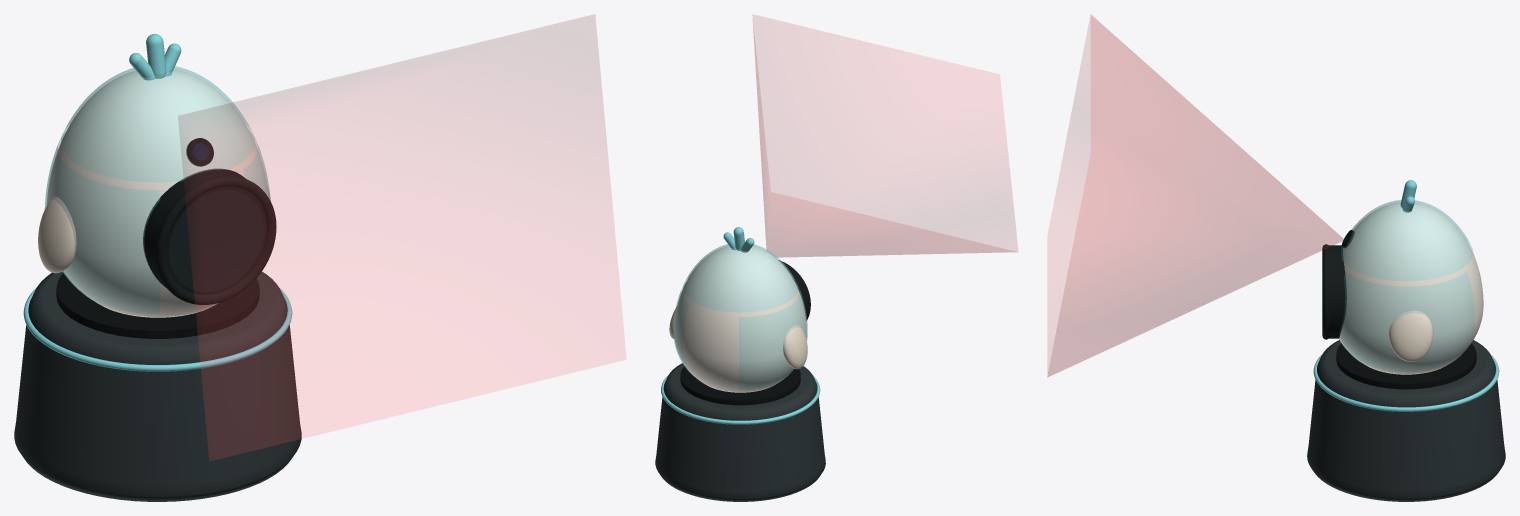
Rendered from haro-body.glb.
3 views of the same model, side by side, from view 1: azimuth 30°, elevation 25°; view 2: azimuth 150°, elevation 25°; view 3: azimuth 270°, elevation 25° (orthographic). The views are drawn at different scales.
Parts seen in each view (by area): view 1: camera_view_keep_clear, base, shell, touch_pad_crown, touch_pad_right, screen, base_top, screen_rim, screen_bezel, base_ring, wing_right, leaf_1; view 2: camera_view_keep_clear, base, shell, touch_pad_crown, touch_pad_right, base_top, base_ring, wing_right, touch_pad_left; view 3: camera_view_keep_clear, base, shell, touch_pad_left, touch_pad_crown, base_top, wing_left, screen_bezel, base_ring, screen_rim.
Part boxes in pixels (x1,y1,x2,y2): camera_view_keep_clear: (178,15,625,460); base: (14,271,301,501); shell: (46,69,268,317); touch_pad_crown: (61,66,254,182); touch_pad_right: (44,132,159,313); screen: (169,190,263,291); base_top: (56,273,259,338); screen_rim: (155,176,276,304); screen_bezel: (143,168,266,294); base_ring: (23,288,292,371); wing_right: (38,196,76,273); leaf_1: (146,33,166,78); camera_view_keep_clear: (752,15,1017,257); base: (655,363,825,501); shell: (674,246,806,392); touch_pad_crown: (683,244,797,312); touch_pad_right: (739,284,807,389); base_top: (680,366,800,405); base_ring: (661,375,820,424); wing_right: (783,325,807,369); touch_pad_left: (673,284,693,376); camera_view_keep_clear: (1047,15,1344,376); base: (1307,340,1505,501); shell: (1339,202,1483,374); touch_pad_left: (1339,272,1474,371); touch_pad_crown: (1341,200,1473,280); base_top: (1336,343,1476,389); wing_left: (1389,310,1433,361); screen_bezel: (1328,245,1346,338); base_ring: (1313,354,1499,411); screen_rim: (1322,244,1328,339).
Bounding box in the file's own units: 14.25 × 17.8 × 19.62.
